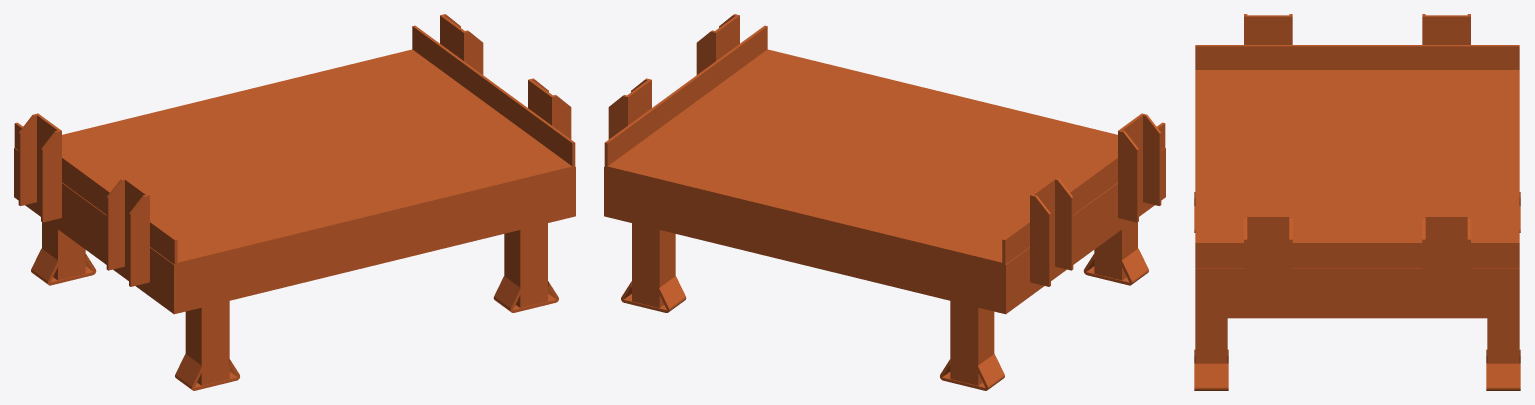
Rendered from BolzentischMitErhöhung3D.dae.
3 views of the same model, side by side, from view 1: azimuth 30°, elevation 25°; view 2: azimuth 150°, elevation 25°; view 3: azimuth 270°, elevation 25° (orthographic).
Visible parts, largest first — view 1: node0; view 2: node0; view 3: node0.
Boxes of the visible parts, left/top/right/bottom form: node0: left=14, top=14, right=575, bottom=390; node0: left=604, top=14, right=1165, bottom=390; node0: left=1194, top=14, right=1520, bottom=390.
Bounding box in the file's own units: 1.59 × 1 × 0.63.
